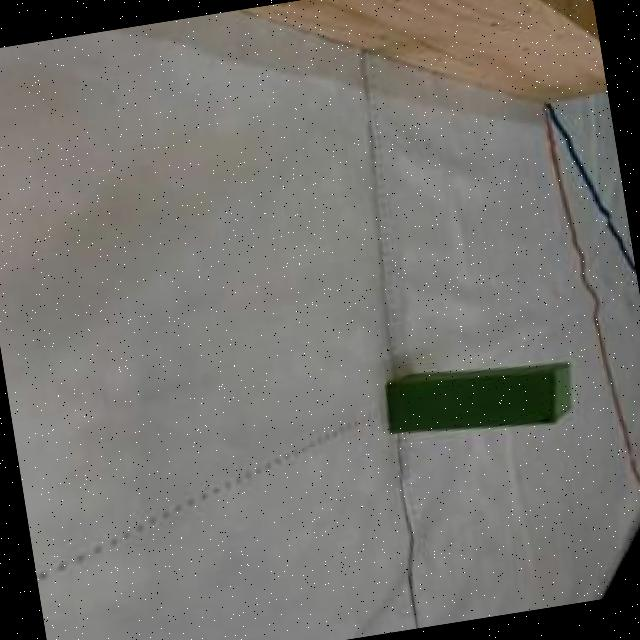greenbox: (381, 348, 574, 446)
